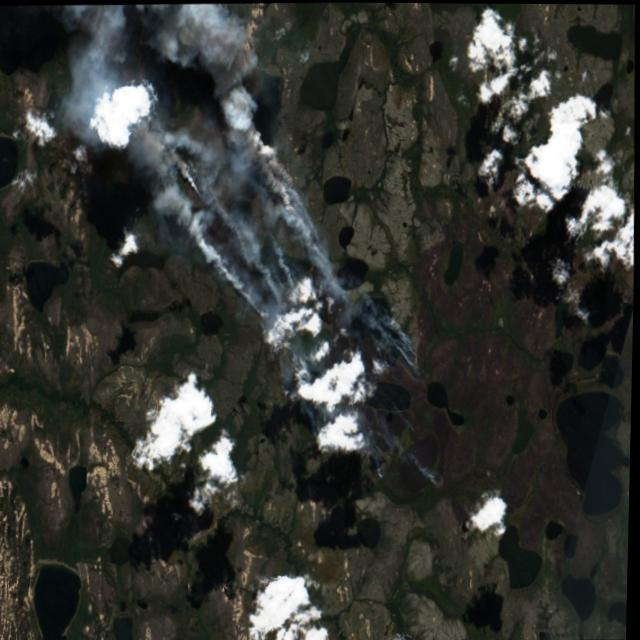fire: (150, 92, 341, 306), (396, 314, 436, 397), (372, 440, 388, 483), (428, 467, 443, 485)
